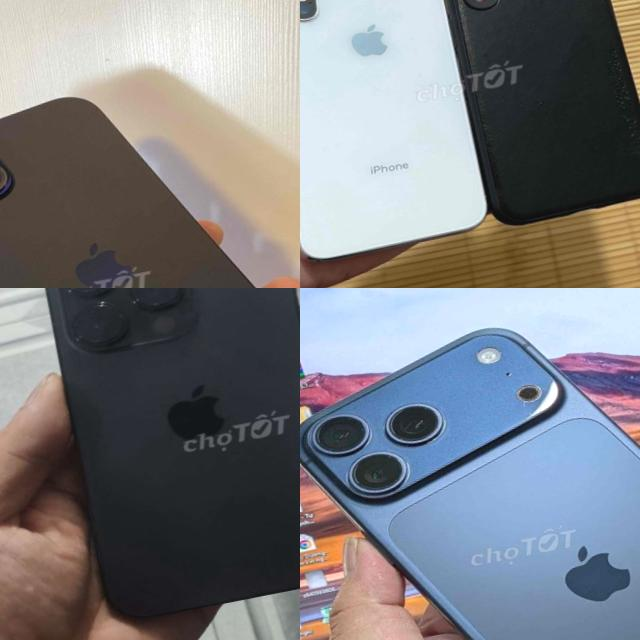gen_14: (18, 288, 300, 640)
gen_15: (0, 48, 300, 288)
gen_17: (300, 288, 640, 640)
gen_x_xs: (300, 0, 487, 259)
